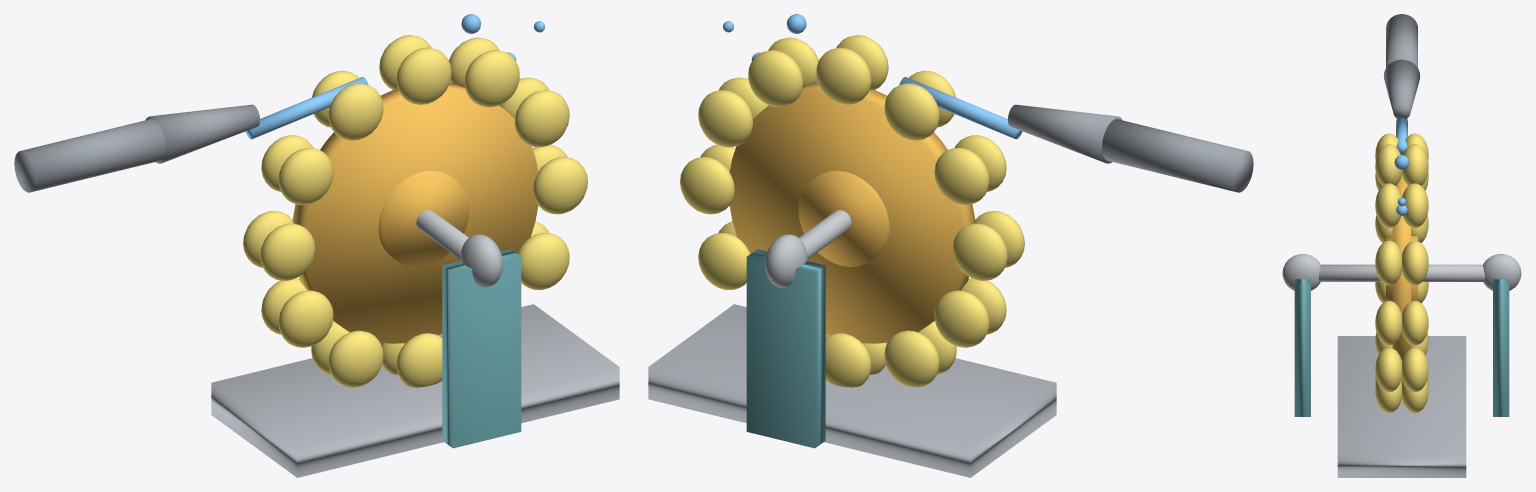
Rendered from turbina_pelton.glb.
The picture shows the model from 3 angles, left to right: view 1: azimuth 30°, elevation 25°; view 2: azimuth 150°, elevation 25°; view 3: azimuth 270°, elevation 25°; orthographic projection. The views are drawn at different scales.
Visible parts, largest first — view 1: Disco, Base, SoporteIzq, Tubo, BujeRodete, Cuchara06, Cuchara07, Cuchara04, Cuchara08, Cuchara03, Boquilla, Cuchara05 (+8 smaller); view 2: Disco, Base, SoporteDer, Tubo, BujeRodete, Cuchara06, Cuchara07, Cuchara04, Cuchara08, Cuchara03, Boquilla, Cuchara05 (+8 smaller); view 3: Base, SoporteDer, SoporteIzq, Eje, Cuchara01, Cuchara02, Cuchara12, Cuchara03, Cuchara04, Boquilla, Tubo, Disco (+9 smaller).
Part boxes in pixels (x1,y1,x2,y2): Disco: (292, 83, 538, 343); Base: (211, 304, 619, 477); SoporteIzq: (442, 249, 521, 448); Tubo: (14, 119, 165, 192); BujeRodete: (378, 170, 469, 266); Cuchara06: (261, 135, 333, 204); Cuchara07: (243, 211, 315, 280); Cuchara04: (379, 35, 451, 104); Cuchara08: (261, 278, 333, 347); Cuchara03: (449, 37, 519, 107); Boquilla: (145, 104, 259, 163); Cuchara05: (312, 70, 383, 140); Disco: (729, 83, 975, 343); Base: (648, 304, 1056, 477); SoporteDer: (746, 249, 825, 448); Tubo: (1102, 119, 1253, 192); BujeRodete: (798, 170, 889, 266); Cuchara06: (934, 135, 1006, 204); Cuchara07: (952, 211, 1024, 280); Cuchara04: (816, 35, 888, 104); Cuchara08: (934, 278, 1006, 347); Cuchara03: (748, 37, 818, 107); Boquilla: (1008, 104, 1122, 163); Cuchara05: (884, 70, 955, 140); Base: (1337, 336, 1466, 477); SoporteDer: (1493, 279, 1509, 416); SoporteIzq: (1294, 279, 1310, 416); Eje: (1319, 264, 1484, 281); Cuchara01: (1375, 300, 1428, 345); Cuchara02: (1375, 240, 1428, 285); Cuchara12: (1375, 347, 1428, 392); Cuchara03: (1375, 183, 1428, 227); Cuchara04: (1375, 144, 1428, 185); Boquilla: (1383, 59, 1420, 118); Tubo: (1386, 14, 1417, 67); Disco: (1392, 175, 1411, 360).
Bounding box in the file's own units: 8.92 × 5.84 × 4.46.
